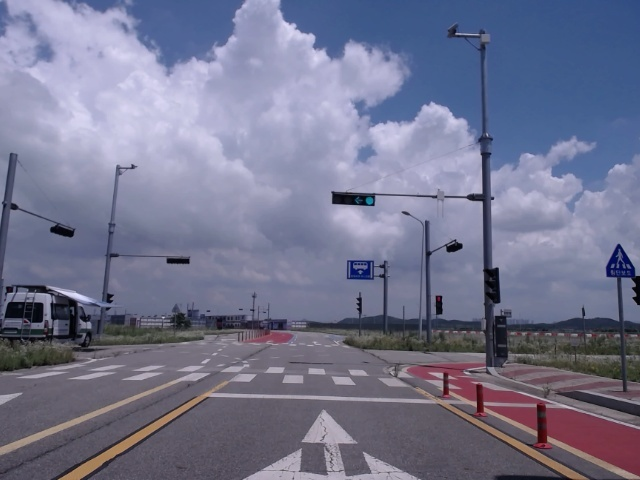all_green_4: (333, 190, 376, 208)
